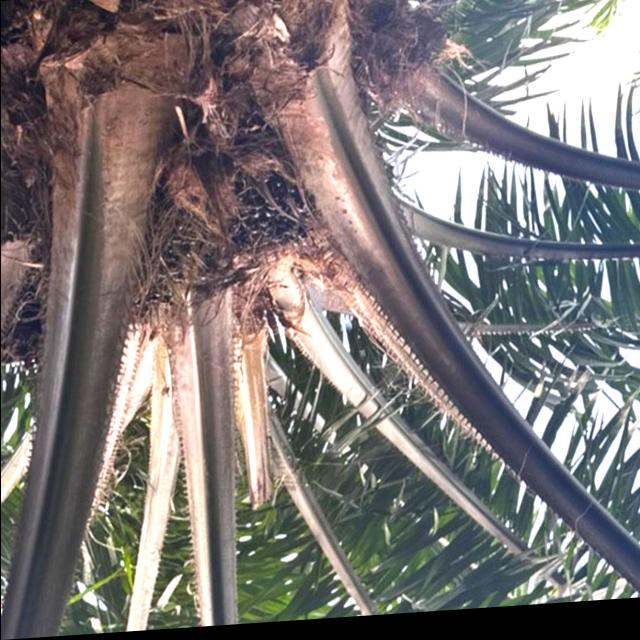unripe: (215, 163, 326, 261)
